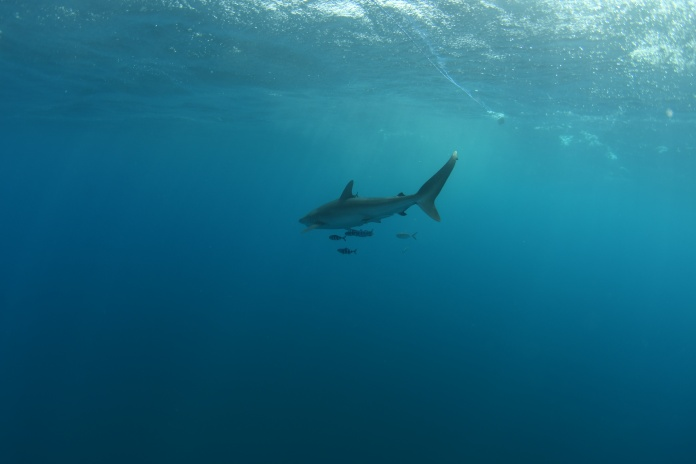Sedoso: (270, 140, 467, 257)
